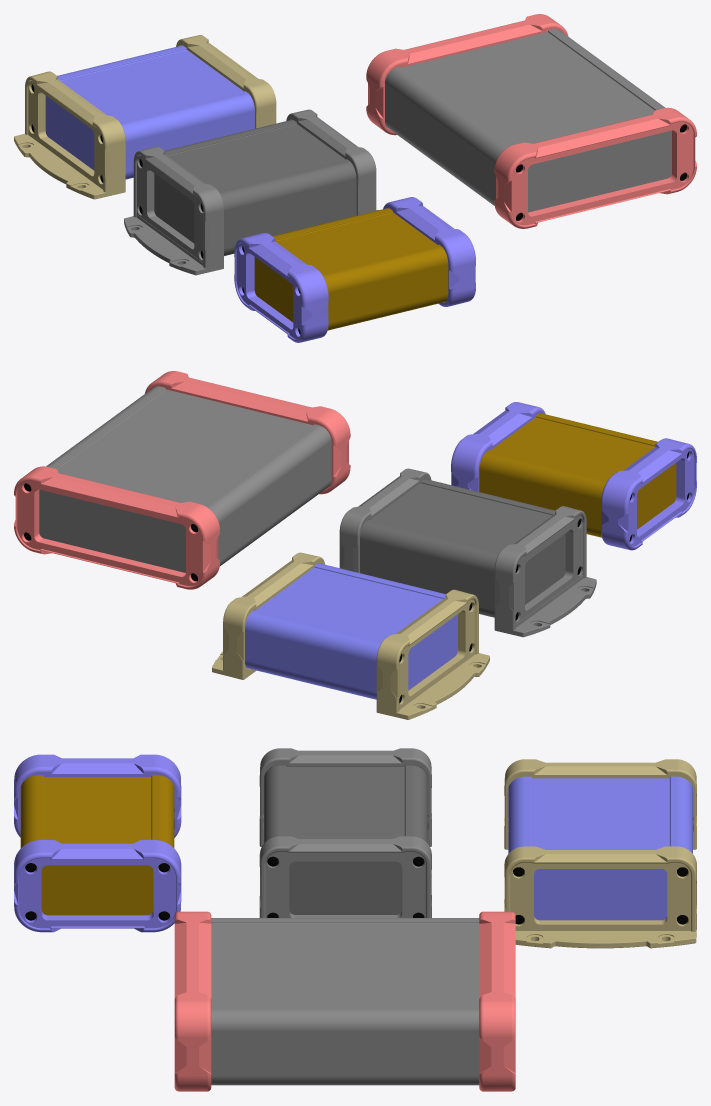
3 renders of one model, top to bottom at view 1: azimuth 30°, elevation 25°; view 2: azimuth 150°, elevation 25°; view 3: azimuth 270°, elevation 25°, orthographic. The views are drawn at different scales.
Parts seen in each view (by area): view 1: SC-FT120x40-10_B, SC-FT120x40-30_黑色 (×2), SC-FT90x35-10_B, SC-FT80x40-10_B, SC-FT75x35-10_B, SC-FT90x35-30_深蓝色 (×2), SC-FT80x40-30_深蓝色 (×2), SC-FT75x35-30_黑色 (×2), SC-FT120x40-20_A, SC-FT75x35-10_A, SC-FT120x40-10_A, SC-FT80x40-10_A (+4 smaller); view 2: SC-FT120x40-10_B, SC-FT120x40-30_黑色 (×2), SC-FT90x35-10_B, SC-FT80x40-10_B, SC-FT90x35-30_深蓝色 (×2), SC-FT75x35-10_B, SC-FT80x40-30_深蓝色 (×2), SC-FT75x35-30_黑色 (×2), SC-FT120x40-20_B, SC-FT90x35-10_A, SC-FT120x40-10_A, SC-FT80x40-10_A (+4 smaller); view 3: SC-FT120x40-10_B, SC-FT90x35-30_深蓝色 (×2), SC-FT120x40-30_黑色 (×2), SC-FT90x35-10_B, SC-FT75x35-30_黑色 (×2), SC-FT80x40-10_B, SC-FT80x40-30_深蓝色 (×2), SC-FT75x35-10_B, SC-FT120x40-10_A, SC-FT90x35-20_A, SC-FT80x40-20_A, SC-FT75x35-20_A.
Part boxes in pixels (box(x1,y1,x2,y2)): SC-FT120x40-10_B: box(385, 29, 665, 182); SC-FT120x40-30_黑色 (×2): box(366, 14, 696, 228); SC-FT90x35-10_B: box(57, 45, 254, 156); SC-FT80x40-10_B: box(164, 119, 356, 229); SC-FT75x35-10_B: box(273, 208, 448, 307); SC-FT90x35-30_深蓝色 (×2): box(14, 35, 276, 199); SC-FT80x40-30_深蓝色 (×2): box(124, 109, 378, 275); SC-FT75x35-30_黑色 (×2): box(234, 197, 475, 342); SC-FT120x40-20_A: box(528, 130, 671, 212); SC-FT75x35-10_A: box(327, 279, 448, 330); SC-FT120x40-10_A: box(385, 102, 495, 205); SC-FT80x40-10_A: box(224, 197, 356, 255); SC-FT120x40-10_B: box(46, 386, 331, 542); SC-FT120x40-30_黑色 (×2): box(14, 371, 350, 589); SC-FT90x35-10_B: box(245, 563, 445, 676); SC-FT80x40-10_B: box(360, 479, 554, 590); SC-FT90x35-30_深蓝色 (×2): box(212, 552, 489, 719); SC-FT75x35-10_B: box(479, 413, 657, 514); SC-FT80x40-30_深蓝色 (×2): box(339, 468, 596, 637); SC-FT75x35-30_黑色 (×2): box(451, 402, 696, 550); SC-FT120x40-20_B: box(39, 489, 185, 572); SC-FT90x35-10_A: box(245, 645, 376, 699); SC-FT120x40-10_A: box(218, 460, 331, 565); SC-FT80x40-10_A: box(360, 558, 494, 617); SC-FT120x40-10_B: box(211, 918, 479, 1053); SC-FT90x35-30_深蓝色 (×2): box(504, 759, 696, 948); SC-FT120x40-30_黑色 (×2): box(174, 911, 515, 1091); SC-FT90x35-10_B: box(508, 776, 692, 853); SC-FT75x35-30_黑色 (×2): box(14, 754, 181, 932); SC-FT80x40-10_B: box(264, 765, 427, 842); SC-FT80x40-30_深蓝色 (×2): box(259, 748, 431, 917); SC-FT75x35-10_B: box(20, 775, 174, 872); SC-FT120x40-10_A: box(211, 1053, 479, 1085); SC-FT90x35-20_A: box(534, 869, 667, 920); SC-FT80x40-20_A: box(289, 861, 402, 914); SC-FT75x35-20_A: box(41, 865, 153, 915).
Size of the model in its own units: 0.3188 by 0.0478 by 0.3333.
Materials: 56 (12 with a texture image).
